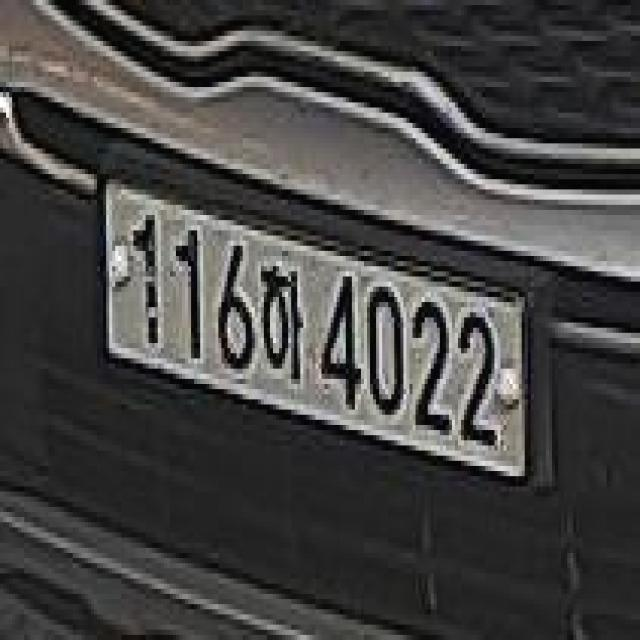illegal_plate: (100, 166, 536, 494)
